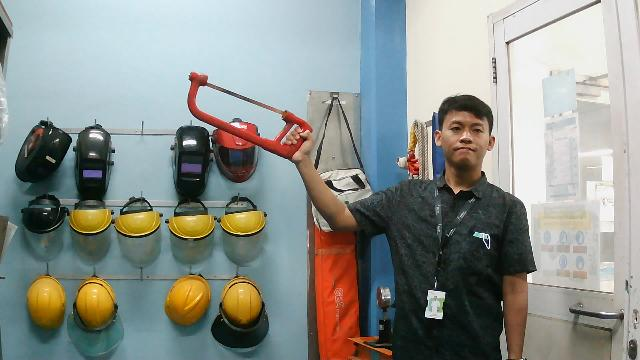gergaji_besi: (153, 65, 325, 169)
